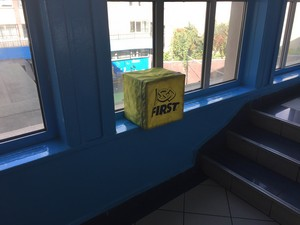cube: (122, 70, 187, 130)
